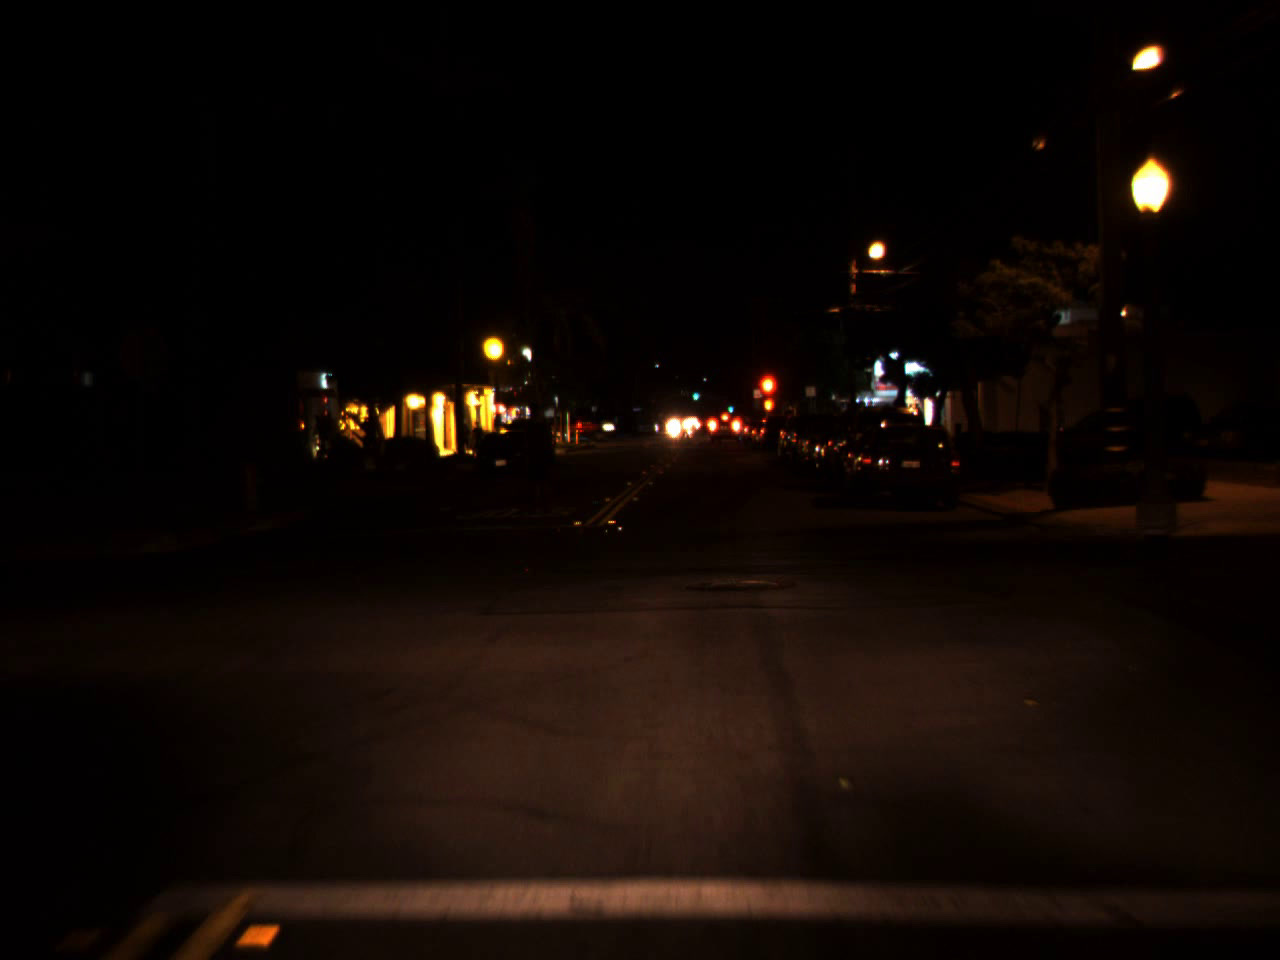go: (690, 386, 699, 401), (725, 398, 734, 413)
stop: (756, 371, 780, 425)
